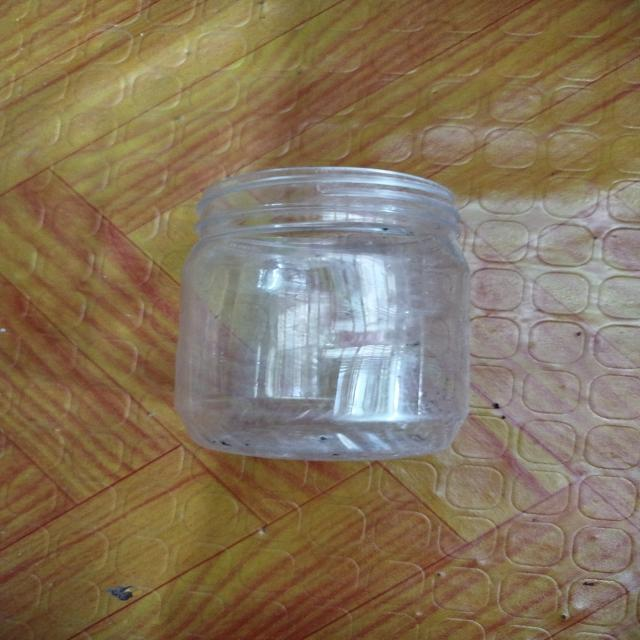plastic: (151, 144, 506, 507)
